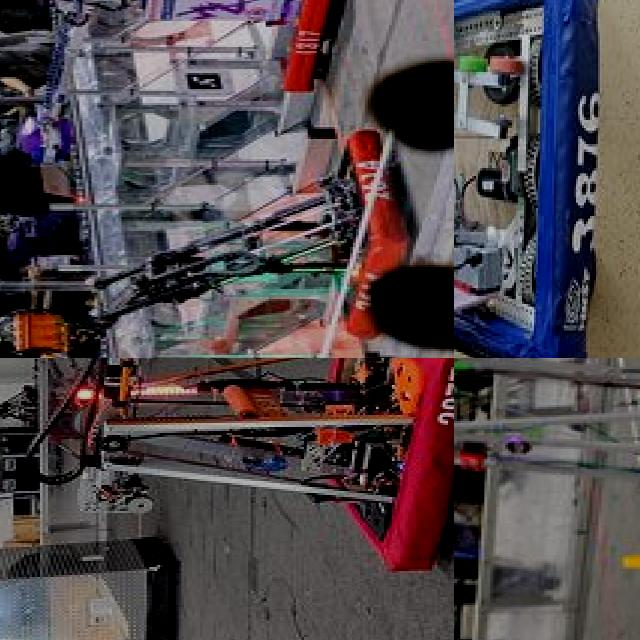FRC-Robots: (11, 358, 454, 558), (76, 108, 386, 356), (454, 0, 612, 358), (25, 0, 335, 145), (454, 358, 640, 526)
